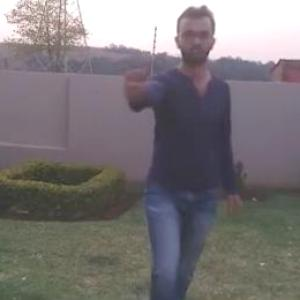takeoff-hand: (111, 54, 149, 91)
